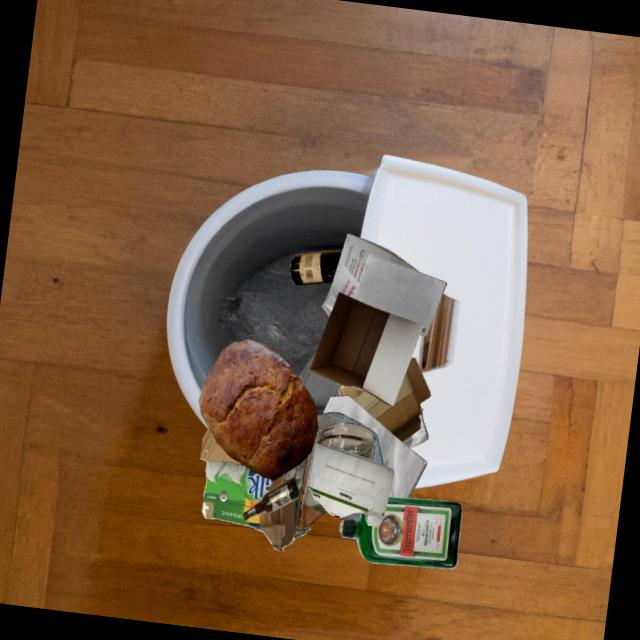biowaste: (198, 339, 318, 480)
cardboard: (200, 428, 310, 551), (309, 292, 423, 406), (338, 357, 430, 442)
glass: (339, 497, 462, 569), (310, 453, 368, 513), (242, 477, 299, 520), (290, 250, 342, 285), (316, 422, 374, 453)
paper: (322, 395, 426, 498), (321, 233, 419, 317), (353, 254, 446, 336), (307, 443, 394, 527), (301, 412, 383, 495), (303, 436, 361, 527), (402, 408, 428, 448)
plastic: (283, 466, 295, 479), (347, 385, 366, 391)
